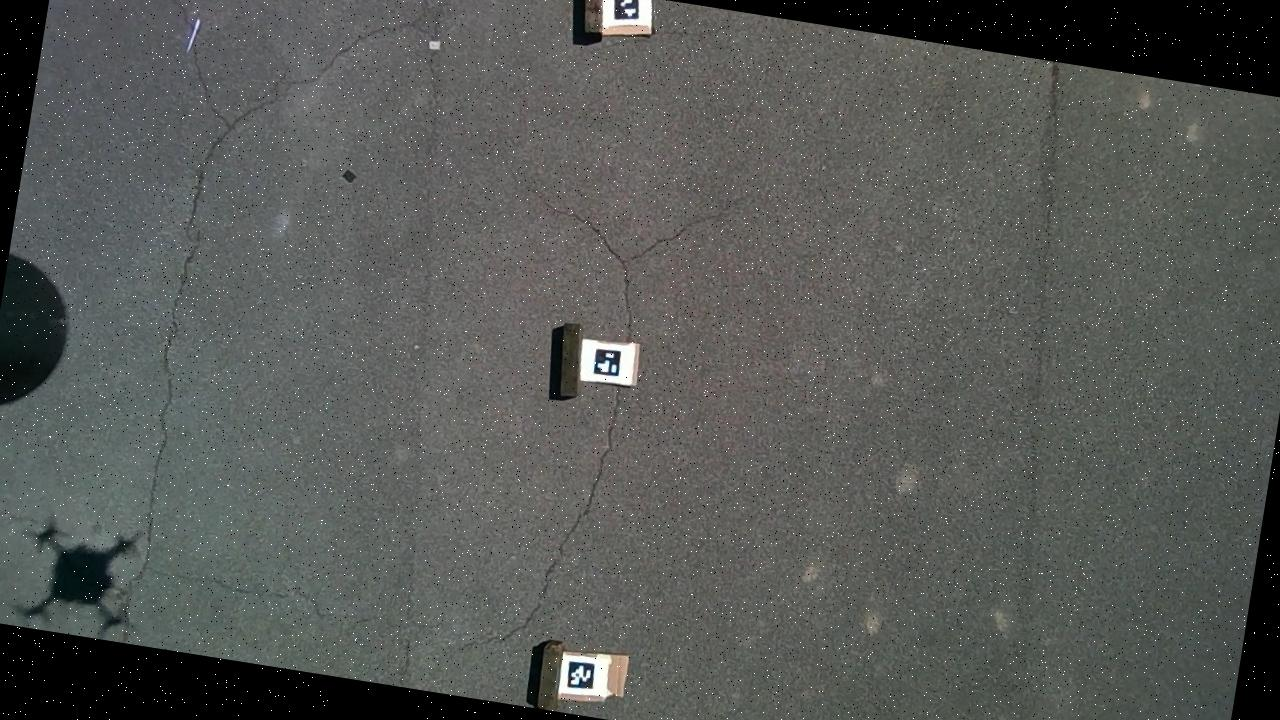probes: (187, 18, 202, 53)
